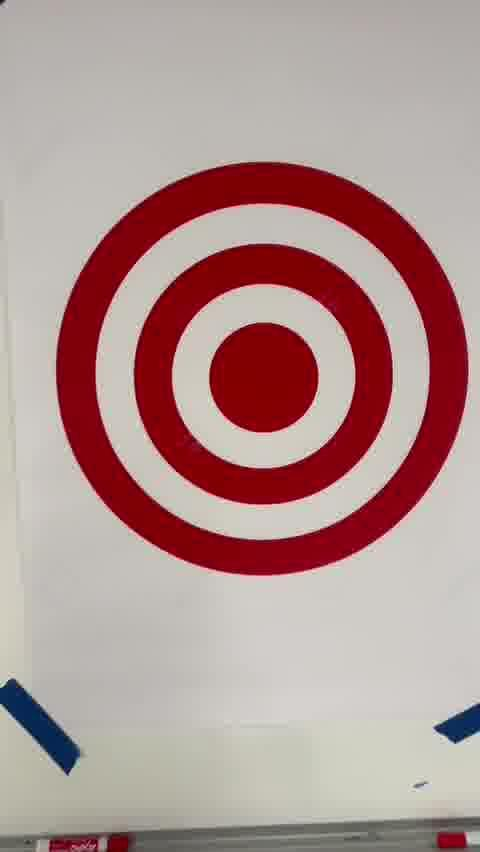target_red: (55, 162, 468, 575)
